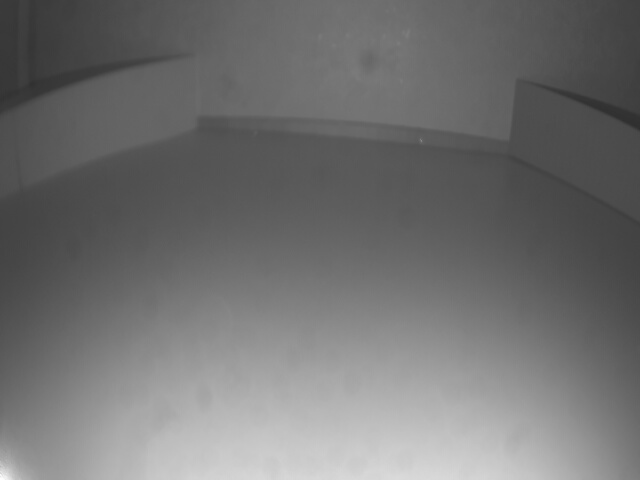Point: (0, 60, 202, 212), (509, 75, 640, 232)
